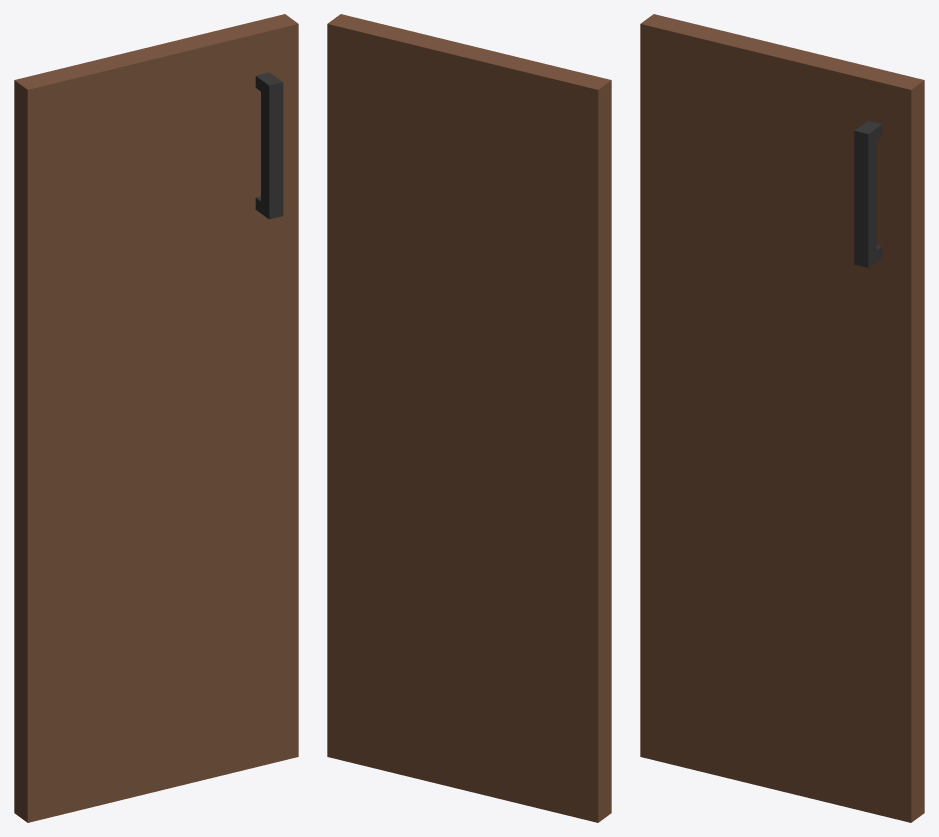
File: Door1_C2_04.fbx
3 views of the same model, side by side, from view 1: azimuth 30°, elevation 25°; view 2: azimuth 150°, elevation 25°; view 3: azimuth 330°, elevation 25° (orthographic).
Parts seen in each view (by area): view 1: Door1_C2_04; view 2: Door1_C2_04; view 3: Door1_C2_04.
Boxes of the visible parts, bbox=[...] form: Door1_C2_04: bbox=[14, 14, 298, 822]; Door1_C2_04: bbox=[327, 14, 611, 822]; Door1_C2_04: bbox=[640, 14, 924, 822].
Size of the model in its own units: 29 by 75 by 5.03.
